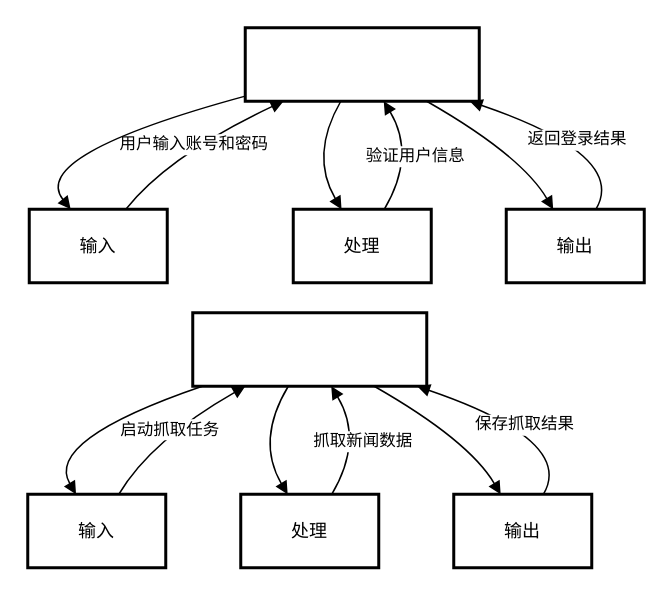
Image size: 671x594. Some labels were removed from this diagram. The box of each missing label's shape, as (x1, y1, x2, y2) in pixels:
新闻抓取模块: (190, 310, 428, 387)
用户登录模块: (243, 26, 480, 102)
